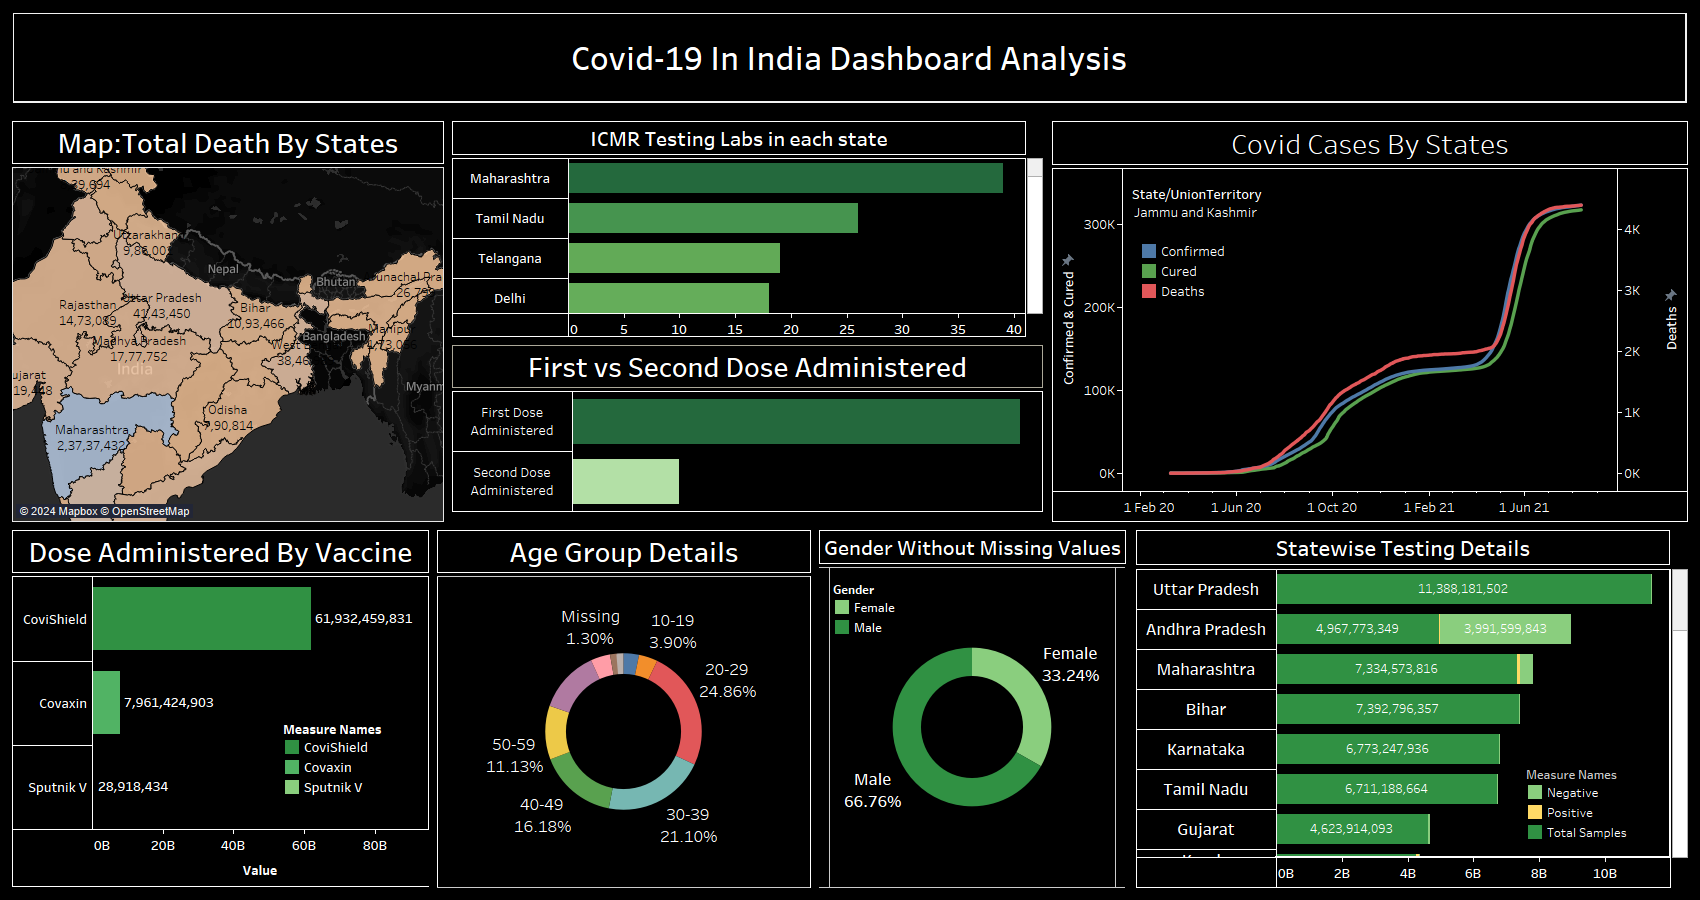

The page's visual inventory and layout, read from the dashboard file:
{"tool":"tableau","page":{"name":"Dashboard 1","canvas":[1700,900],"ordinal":0},"visuals":[{"type":"worksheet","title":"TITlE","mark":"Automatic","box":[8,8,1652,109]},{"type":"worksheet","title":"Map Total Death By States","mark":"Automatic","box":[8,117,432,409]},{"type":"worksheet","title":"ICMR Testing Labs in each state","mark":"Automatic","rows":["state"],"cols":["lab"],"box":[440,117,588,224]},{"type":"worksheet","title":"Covid Cases By States","mark":"Automatic","rows":["Deaths"],"cols":["Date"],"box":[1028,117,632,409]},{"type":"filter","title":"Covid Cases By States","param":"[federated.1v7v55313x3leo0ztpwr8188ctkr].[none:State/UnionTerritory:nk]","box":[1115,187,177,50]},{"type":"legend","title":"Covid Cases By States","param":"[federated.1v7v55313x3leo0ztpwr8188ctkr].[:Measure Names]","box":[1121,244,95,72]},{"type":"worksheet","title":"First vs Second Dose Administered  ","mark":"Automatic","box":[440,341,588,185]},{"type":"worksheet","title":"Dose Administered By Vaccine","mark":"Automatic","box":[8,526,417,366]},{"type":"worksheet","title":"Age Group Details","mark":"Pie","rows":["Calculation_2098395982624018434","Calculation_2098395982624018434"],"box":[425,526,375,366]},{"type":"worksheet","title":"Gender Without Missing Values","mark":"Pie","rows":["Calculation_2142587554180050945","Calculation_2142587554180050945"],"box":[800,526,309.3,366]},{"type":"worksheet","title":"Statewise Testing Details","mark":"Automatic","rows":["State"],"box":[1109.3,526,550.7,366]},{"type":"legend","title":"Gender Without Missing Values","param":"[federated.1jnv2ud13njfv51gf18s91eynrxx].[none:gender:nk]","box":[832,579,140,58]},{"type":"legend","title":"Dose Administered By Vaccine","param":"[federated.12b6wxs0uj1l25107k2ua1qq8qv8].[:Measure Names]","box":[282,718,140,112]},{"type":"legend","title":"Statewise Testing Details","param":"[federated.0b1rm1p0fffto0161u78v1hr2kj1].[:Measure Names]","box":[1525,764,118,90]}]}

Visuals, with their boxes in screenshot pixels (x1, y1, x2, y2), scaled from the page's 1700x900 canvas onto the 1700x900 screenshot:
"TITlE" worksheet: [8,8,1660,117]
"Map Total Death By States" worksheet: [8,117,440,526]
"ICMR Testing Labs in each state" worksheet: [440,117,1028,341]
"Covid Cases By States" worksheet: [1028,117,1660,526]
"Covid Cases By States" filter: [1115,187,1292,237]
"Covid Cases By States" legend: [1121,244,1216,316]
"First vs Second Dose Administered  " worksheet: [440,341,1028,526]
"Dose Administered By Vaccine" worksheet: [8,526,425,892]
"Age Group Details" worksheet (Pie marks): [425,526,800,892]
"Gender Without Missing Values" worksheet (Pie marks): [800,526,1109,892]
"Statewise Testing Details" worksheet: [1109,526,1660,892]
"Gender Without Missing Values" legend: [832,579,972,637]
"Dose Administered By Vaccine" legend: [282,718,422,830]
"Statewise Testing Details" legend: [1525,764,1643,854]
